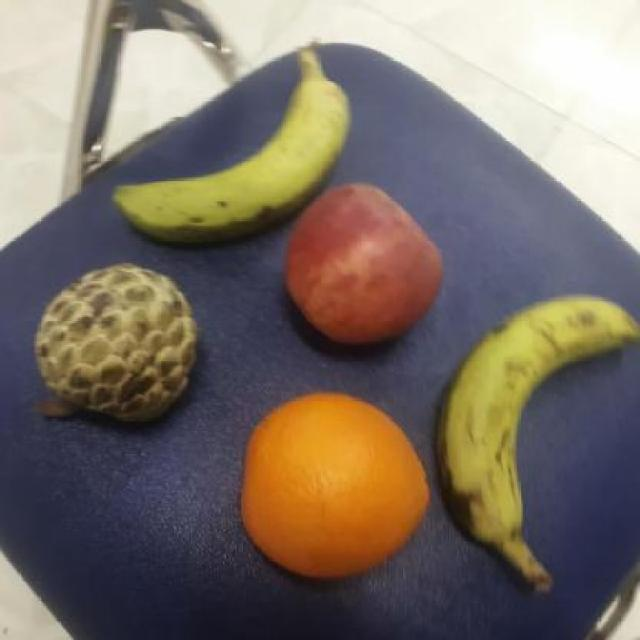apple: (281, 178, 447, 344)
banana: (435, 290, 639, 550), (108, 70, 354, 248)
oren: (238, 386, 434, 582)
sugar apple: (31, 261, 204, 425)
